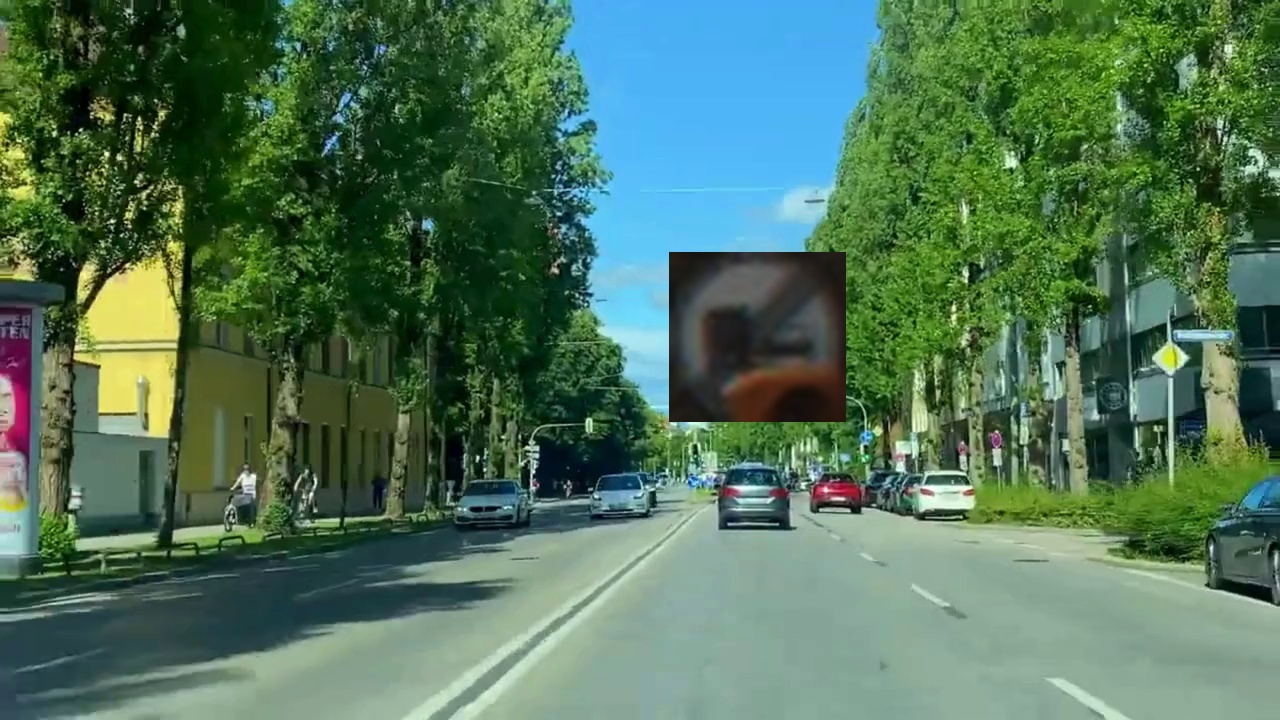End no pass >3.5t: (669, 252, 846, 422)
